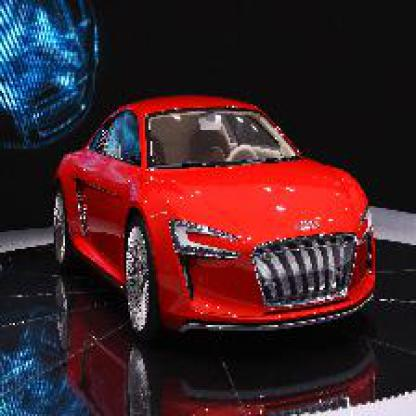not_emergency: (39, 80, 392, 355)
